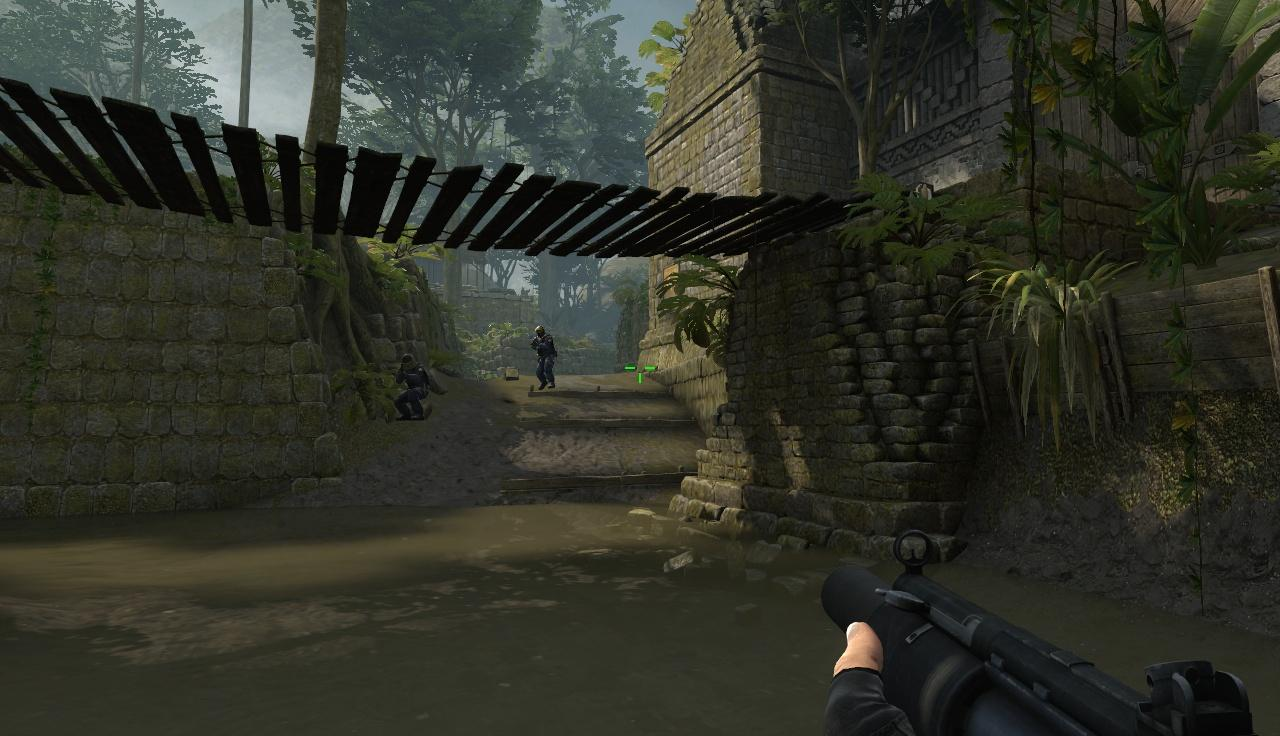ct: (397, 356, 433, 421), (534, 327, 558, 391)
cthead: (403, 355, 419, 372), (539, 326, 549, 338)
rifle: (830, 534, 1280, 736)
